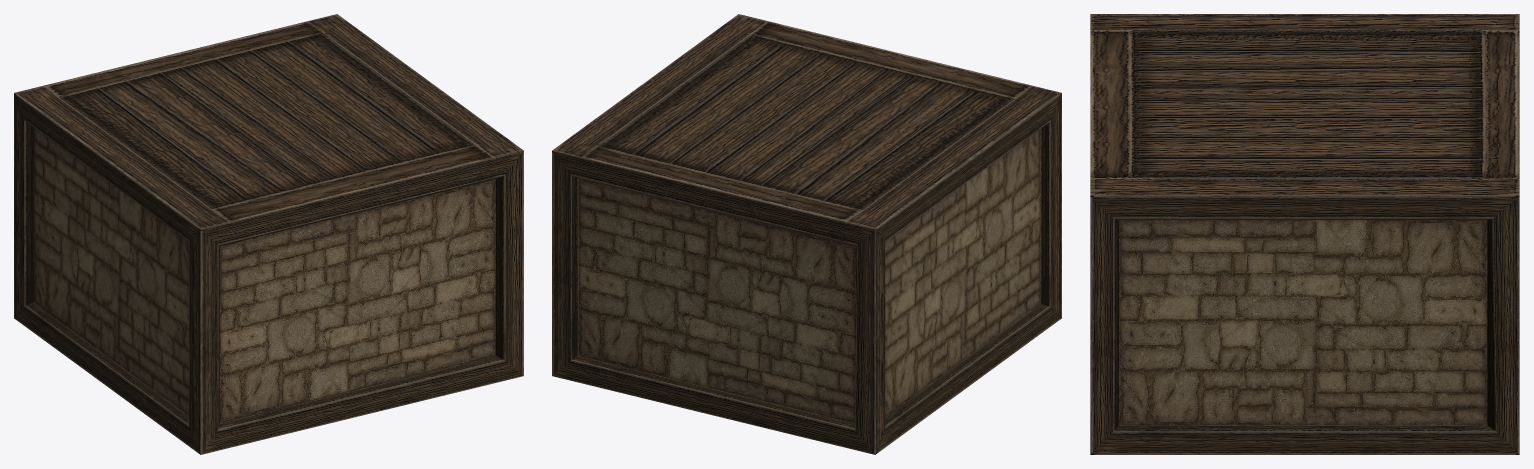
File: House_6X6_05b.fbx
The picture shows the model from 3 angles, left to right: view 1: azimuth 30°, elevation 25°; view 2: azimuth 150°, elevation 25°; view 3: azimuth 270°, elevation 25°; orthographic projection. The views are drawn at different scales.
Visible parts, largest first — view 1: House_6X6_05b; view 2: House_6X6_05b; view 3: House_6X6_05b.
Boxes of the visible parts, box(x1,y1,x2,y2) form: House_6X6_05b: box(14, 14, 523, 454); House_6X6_05b: box(552, 14, 1061, 454); House_6X6_05b: box(1090, 14, 1519, 454).
Size of the model in its own units: 6 by 4 by 6.
